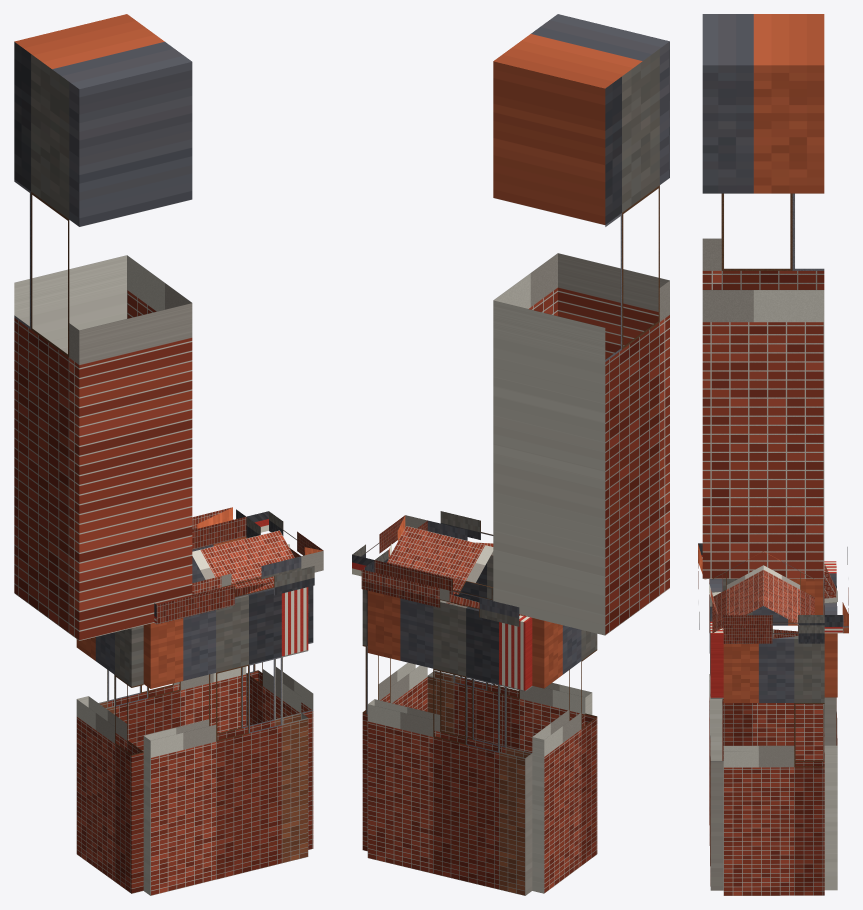
The picture shows the model from 3 angles, left to right: view 1: azimuth 30°, elevation 25°; view 2: azimuth 150°, elevation 25°; view 3: azimuth 270°, elevation 25°; orthographic projection. The views are drawn at different scales.
Visible parts, largest first — view 1: 1107169978__chimney_0_xb, 1107169978__wall_0_xb, 1107169978__wall_1_xb, 1107169978__wall_2_xb, 1107169978__cornice_0, 1107169978__wall_3_xb, 1107169978_roof_-1_xb, 1107169978__cornice_2, 1107169978__cornice_3; view 2: 1107169978__chimney_0_xb, 1107169978__wall_2_xb, 1107169978__wall_1_xb, 1107169978__wall_0_xb, 1107169978__cornice_2, 1107169978_roof_1_xb, 1107169978__wall_3_xb, 1107169978__cornice_3, 1107169978__cornice_0; view 3: 1107169978__chimney_0_xb, 1107169978__wall_3_xb, 1107169978__wall_1_xb, 1107169978__wall_0_xb, 1107169978__wall_2_xb, 1107169978__cornice_3, 1107169978_roof_-1_xb, 1107169978_roof_1_xb, 1107169978__cornice_2.
Boxes of the visible parts, x1=… form: 1107169978__chimney_0_xb: x1=14, y1=14, x2=192, y2=640; 1107169978__wall_0_xb: x1=143, y1=587, x2=308, y2=895; 1107169978__wall_1_xb: x1=76, y1=625, x2=143, y2=893; 1107169978__wall_2_xb: x1=98, y1=536, x2=246, y2=751; 1107169978__cornice_0: x1=154, y1=556, x2=314, y2=624; 1107169978__wall_3_xb: x1=246, y1=536, x2=313, y2=849; 1107169978_roof_-1_xb: x1=192, y1=530, x2=294, y2=594; 1107169978__cornice_2: x1=192, y1=507, x2=246, y2=549; 1107169978__cornice_3: x1=246, y1=511, x2=323, y2=572; 1107169978__chimney_0_xb: x1=493, y1=14, x2=669, y2=635; 1107169978__wall_2_xb: x1=367, y1=590, x2=532, y2=895; 1107169978__wall_1_xb: x1=532, y1=618, x2=597, y2=893; 1107169978__wall_0_xb: x1=427, y1=551, x2=592, y2=752; 1107169978__cornice_2: x1=361, y1=560, x2=527, y2=626; 1107169978_roof_1_xb: x1=387, y1=526, x2=493, y2=594; 1107169978__wall_3_xb: x1=362, y1=589, x2=427, y2=851; 1107169978__cornice_3: x1=352, y1=515, x2=427, y2=576; 1107169978__cornice_0: x1=427, y1=511, x2=493, y2=546; 1107169978__chimney_0_xb: x1=702, y1=14, x2=824, y2=578; 1107169978__wall_3_xb: x1=723, y1=636, x2=824, y2=895; 1107169978__wall_1_xb: x1=722, y1=579, x2=823, y2=760; 1107169978__wall_0_xb: x1=709, y1=579, x2=723, y2=890; 1107169978__wall_2_xb: x1=823, y1=561, x2=837, y2=890; 1107169978__cornice_3: x1=723, y1=615, x2=824, y2=643; 1107169978_roof_-1_xb: x1=712, y1=551, x2=763, y2=633; 1107169978_roof_1_xb: x1=763, y1=551, x2=814, y2=624; 1107169978__cornice_2: x1=824, y1=547, x2=848, y2=633.
Size of the model in its own units: 0.3395 by 1.05 by 0.1863.
Materials: 1 (1 with a texture image).
